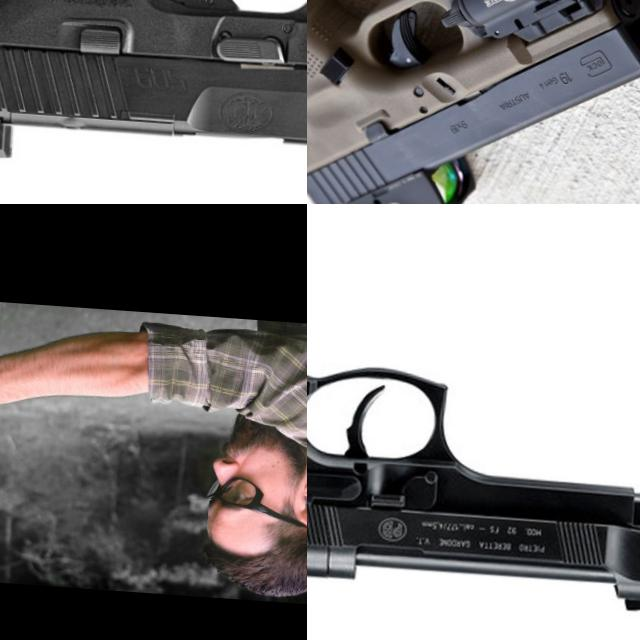handgun: (307, 204, 640, 624), (307, 0, 640, 204), (0, 0, 307, 204), (0, 343, 71, 461)
